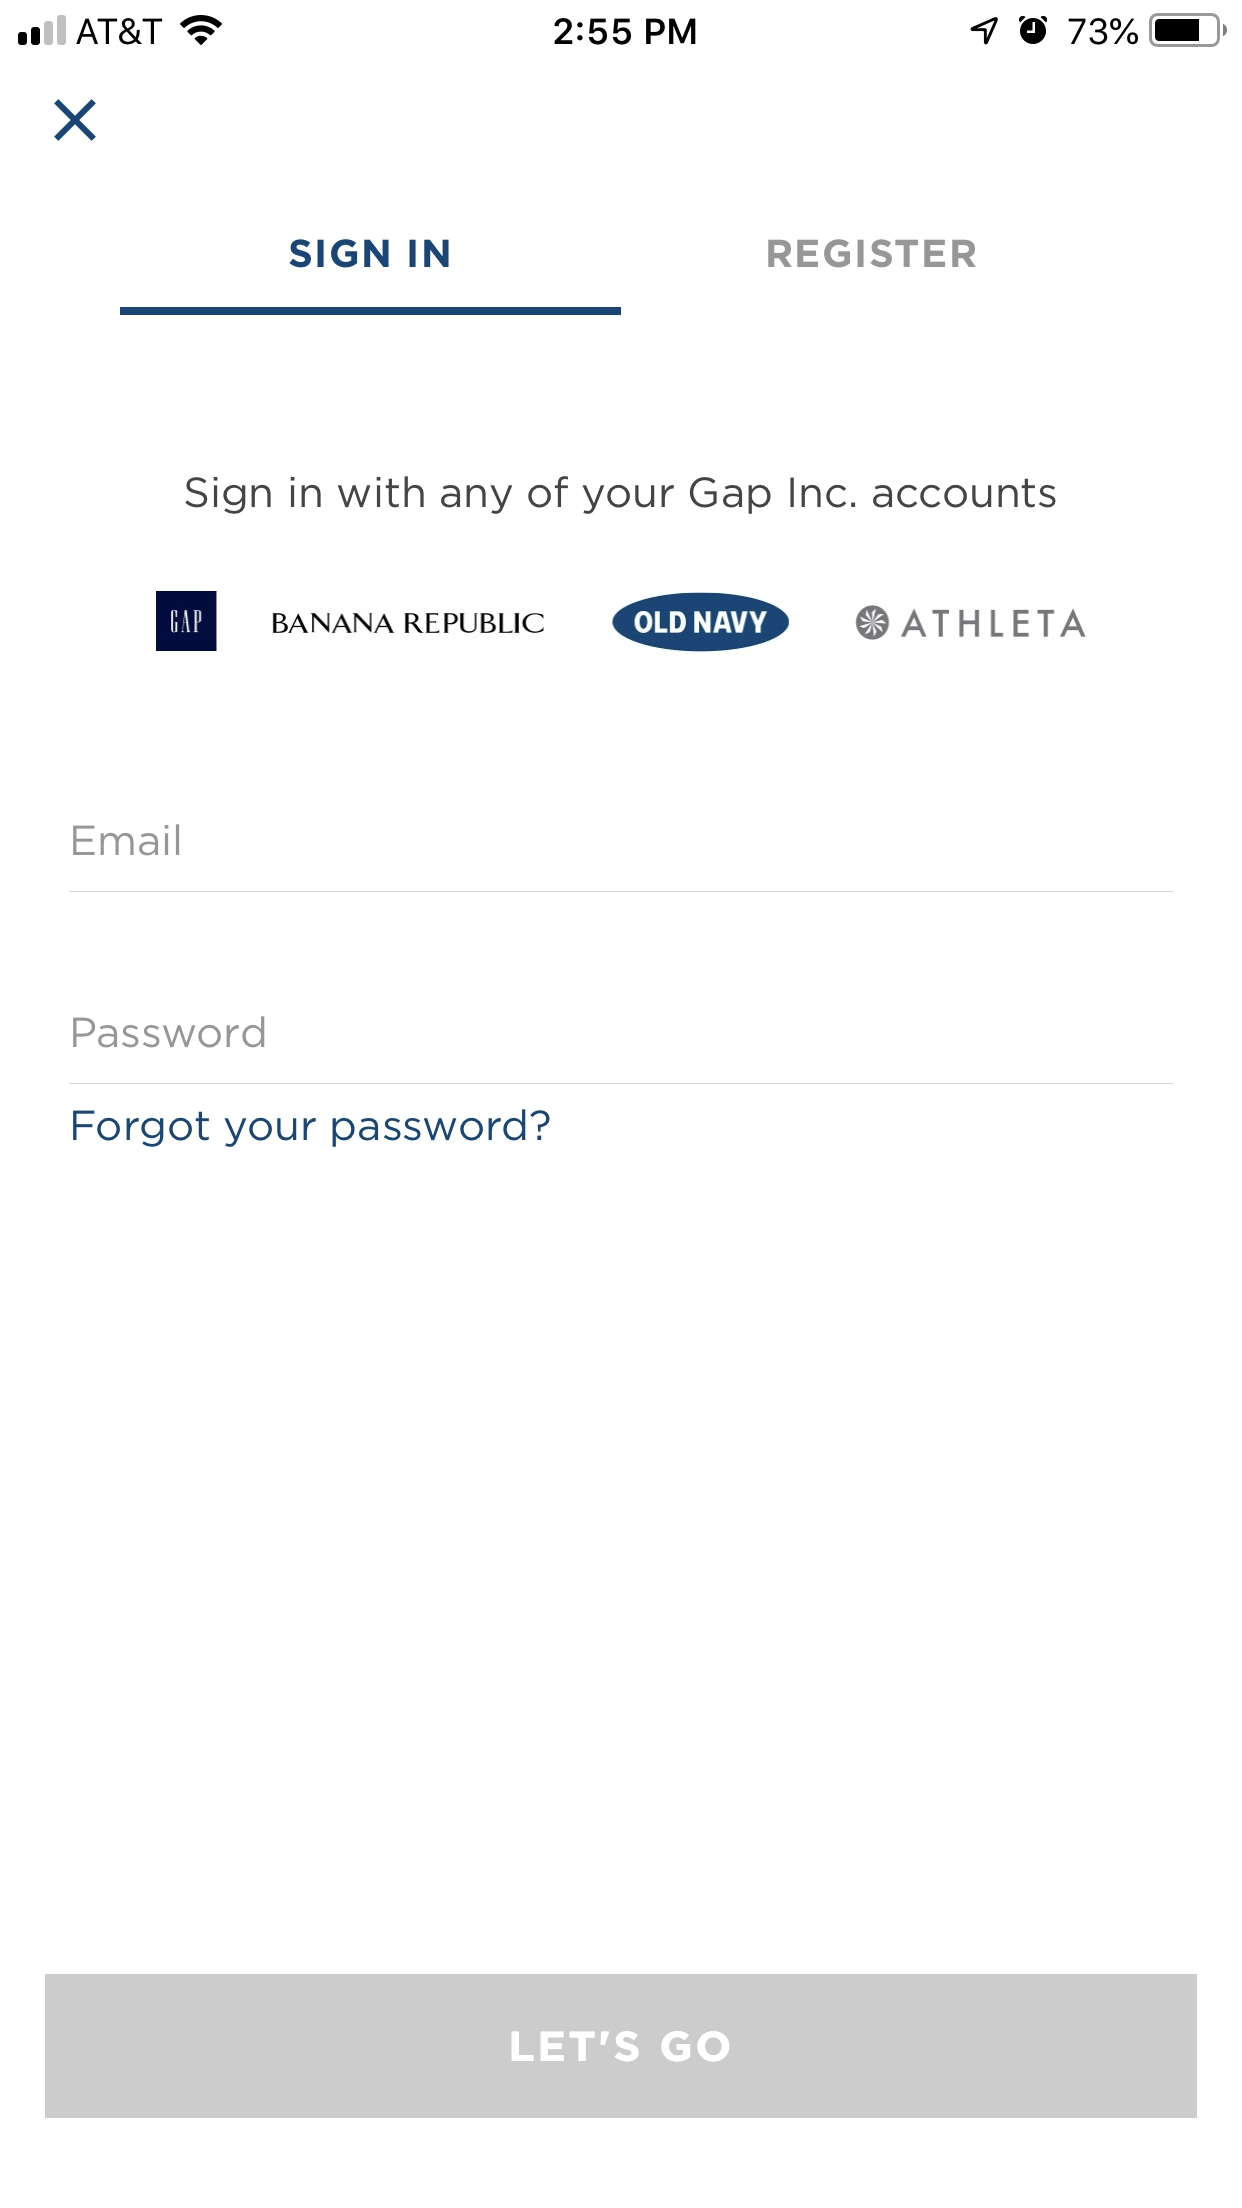EditText: (70, 823, 1174, 893), (70, 1016, 1174, 1084)
Icon: (55, 99, 97, 143)
Image: (613, 593, 790, 654), (156, 591, 218, 652), (855, 605, 890, 641)
Text: (187, 476, 1057, 516), (73, 1109, 550, 1149), (71, 1016, 265, 1049), (271, 613, 546, 635), (767, 240, 977, 268), (901, 610, 1086, 638), (290, 240, 450, 268), (73, 823, 180, 857)
TextButton: (45, 1973, 1198, 2119)
UpperTaskBar: (2, 2, 1242, 49)
